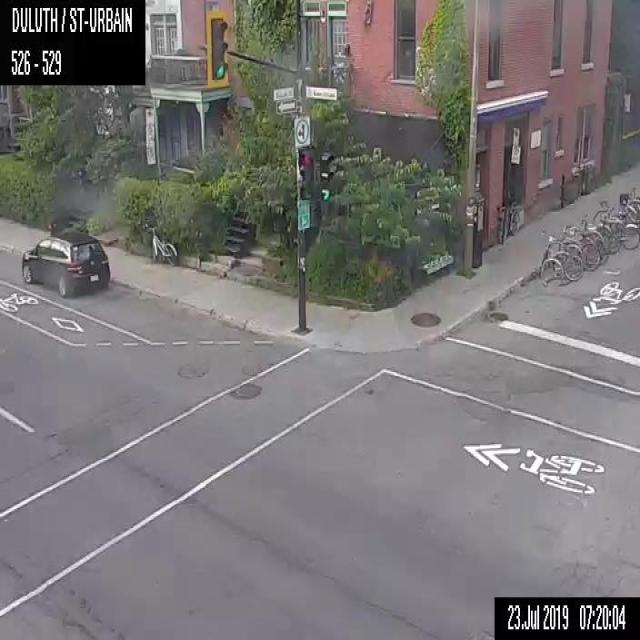vehicle: (20, 230, 110, 298)
